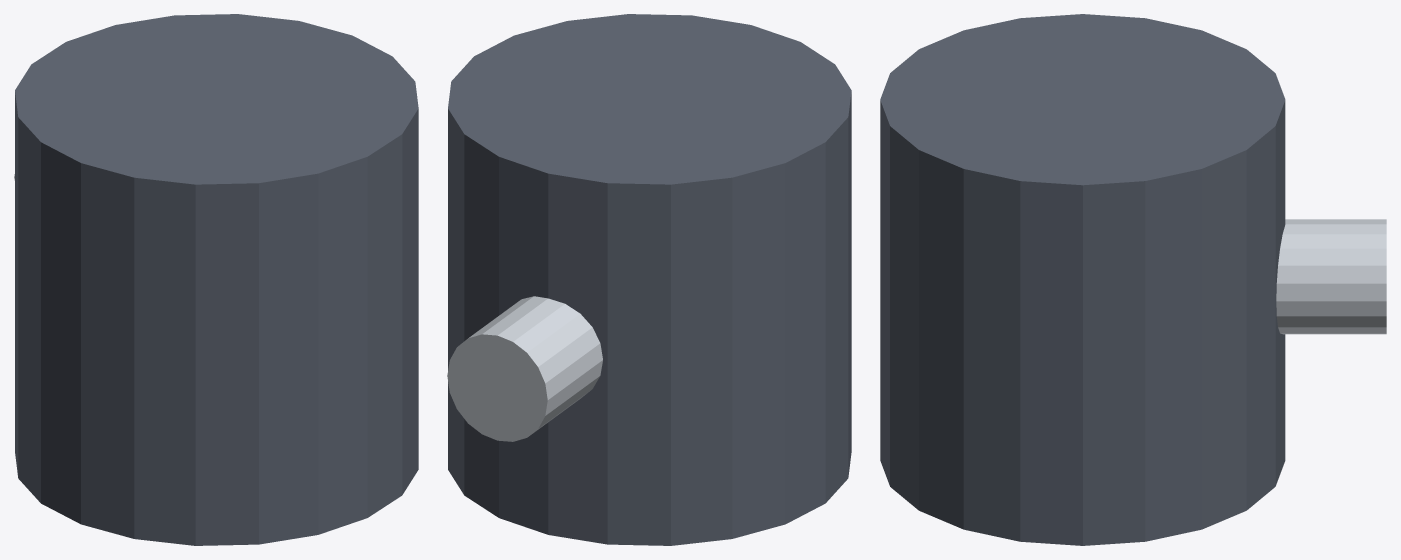
File: wst-power-head-new.glb
3 views of the same model, side by side, from view 1: azimuth 30°, elevation 25°; view 2: azimuth 150°, elevation 25°; view 3: azimuth 270°, elevation 25° (orthographic).
Visible parts, largest first — view 1: black optical head; view 2: black optical head, silver optical port; view 3: black optical head, silver optical port.
Boxes of the visible parts, x1,y1,x2,y2 form: black optical head: (15, 14, 418, 545); black optical head: (448, 14, 851, 545); silver optical port: (447, 296, 602, 441); black optical head: (880, 14, 1285, 545); silver optical port: (1276, 219, 1386, 334).
Size of the model in its own units: 0.056 by 0.055 by 0.07.
